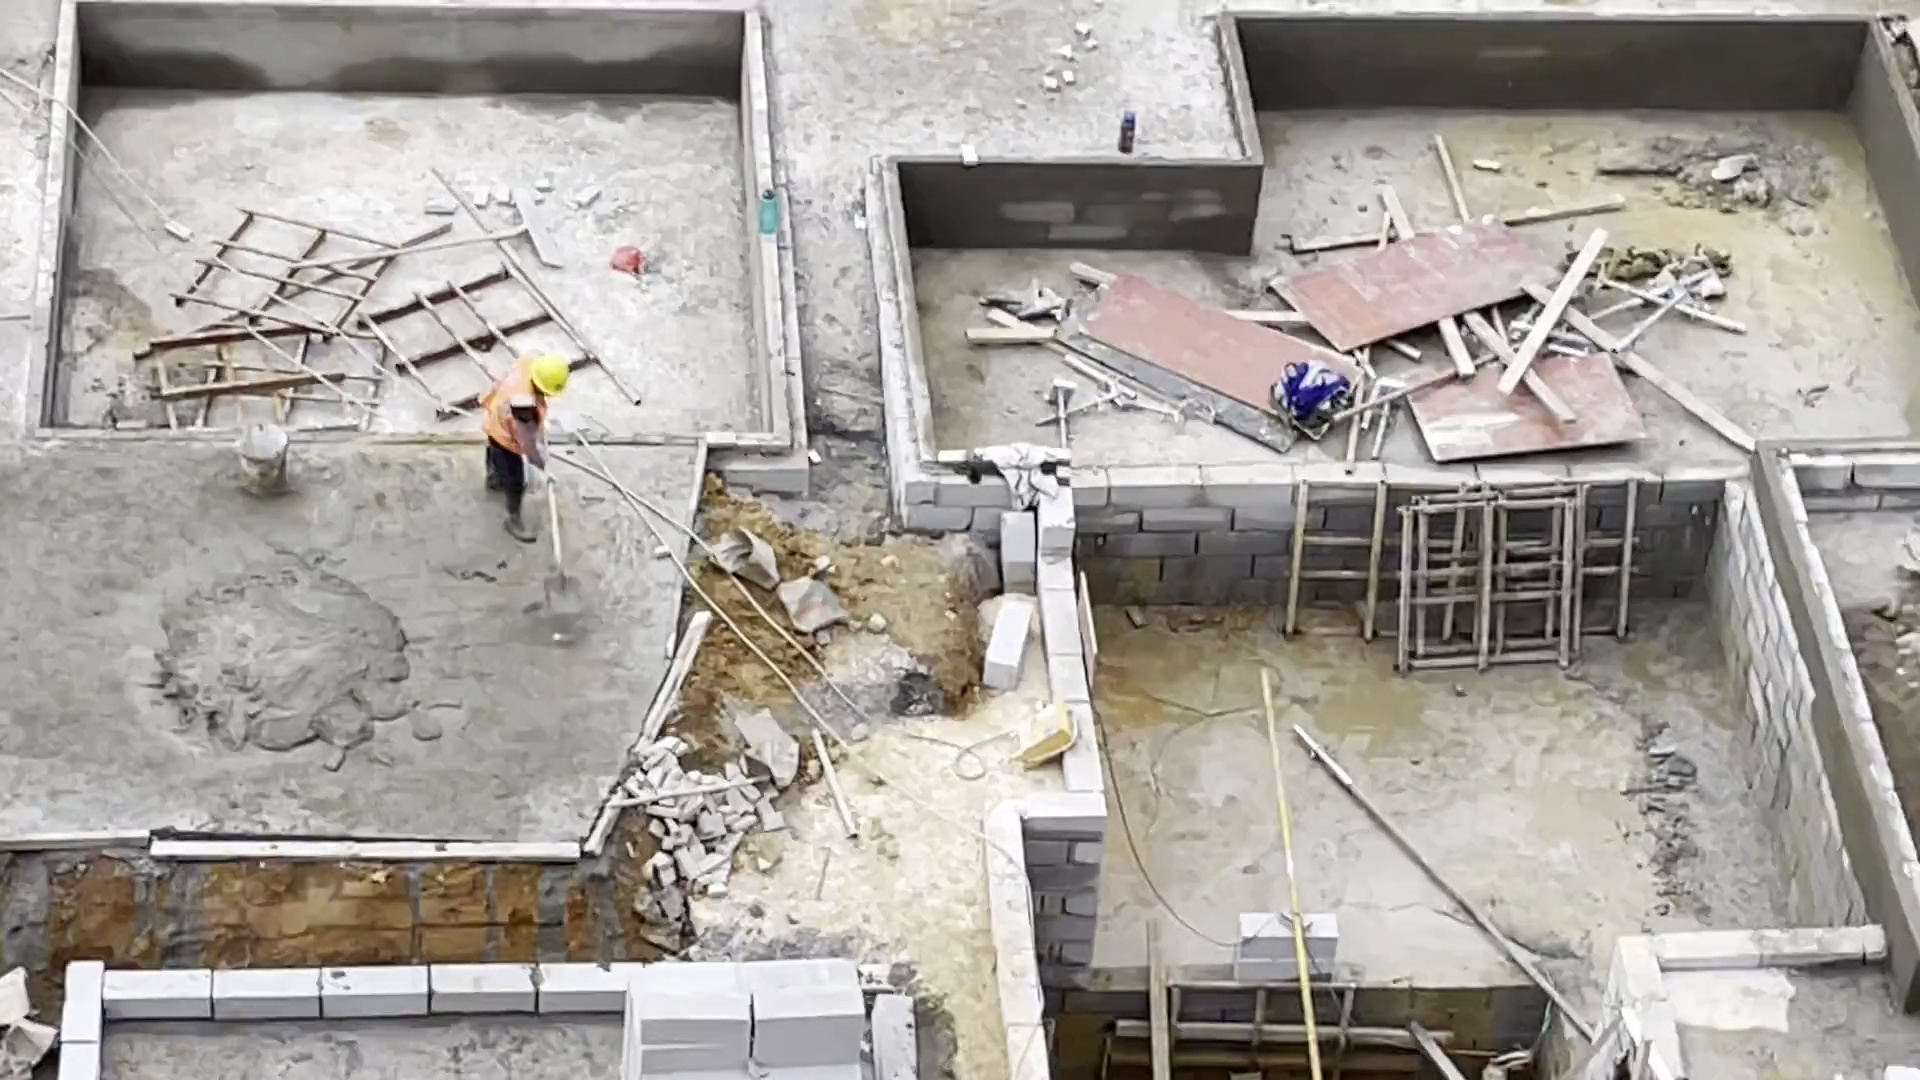helmet: (532, 355, 570, 399)
person: (477, 354, 568, 545)
vest: (483, 359, 547, 459)
